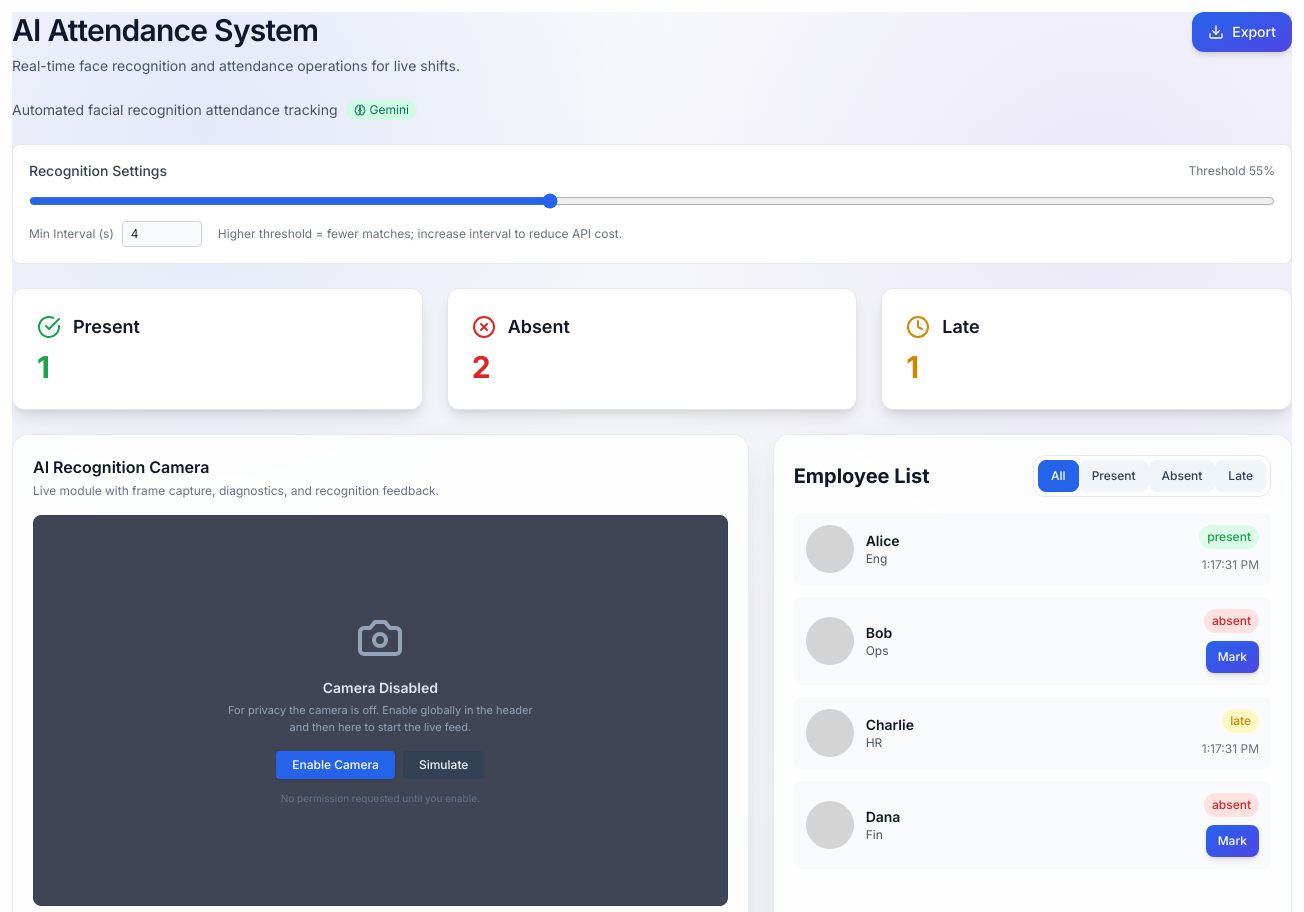
AttendanceSystem filters (backend mode) › renders stats and filters employee list correctly
Expected: the text with test id "stat-present-count" reads "1", left=37, top=349, right=50, bottom=385
Expected: the text with test id "stat-absent-count" reads "2", left=472, top=349, right=491, bottom=385
// Filter: Present
Step 1. Click the button "Present" → [1114, 476], box left=1079, top=460, right=1149, bottom=492
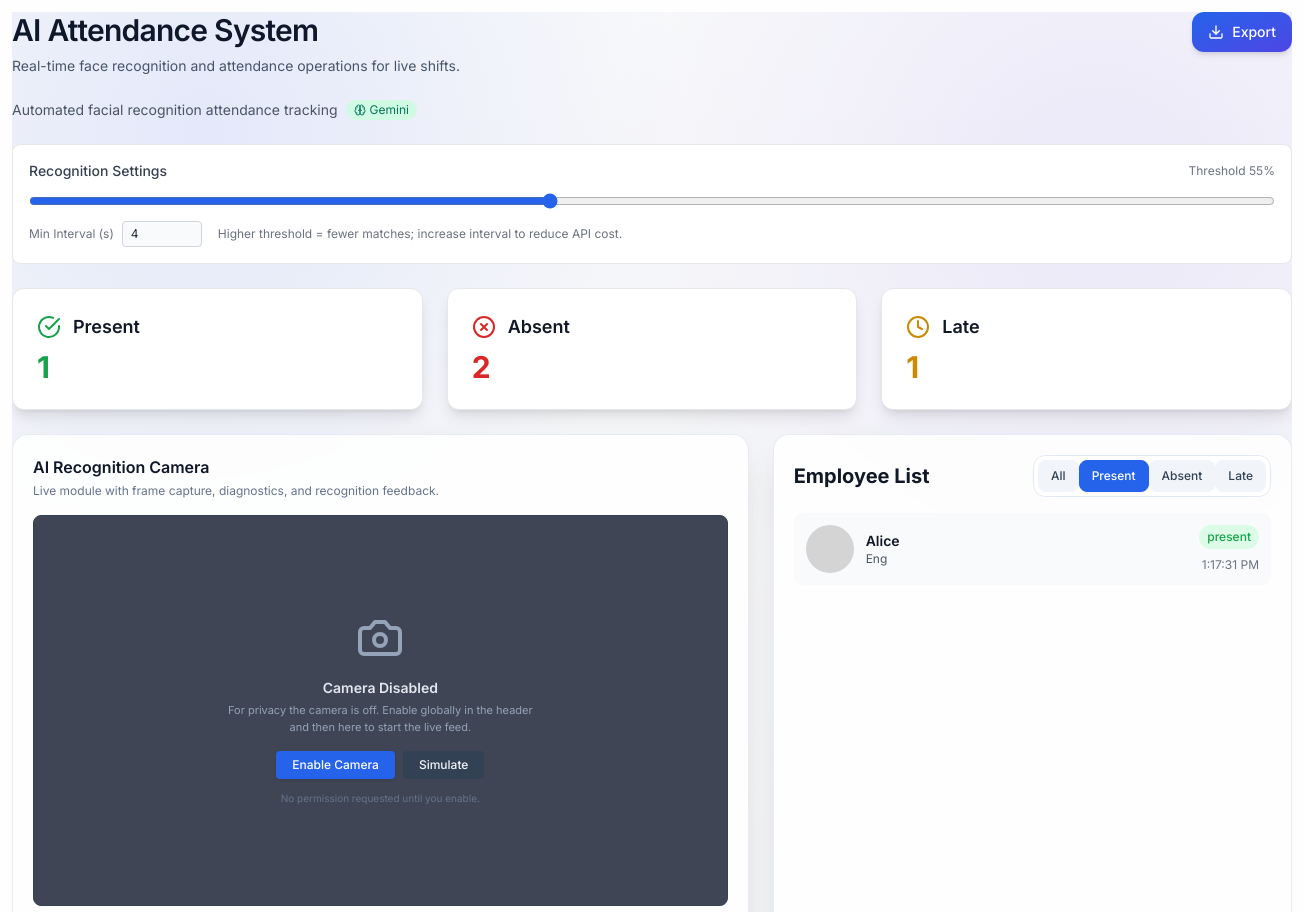
Expected: the heading "Alice" is shown, left=866, top=532, right=900, bottom=549
Expected: the heading "Bob" is gone
Expected: the heading "Charlie" is gone
// Filter: Late
Step 2. Click the button "Late" → [1241, 476], box left=1215, top=460, right=1266, bottom=492
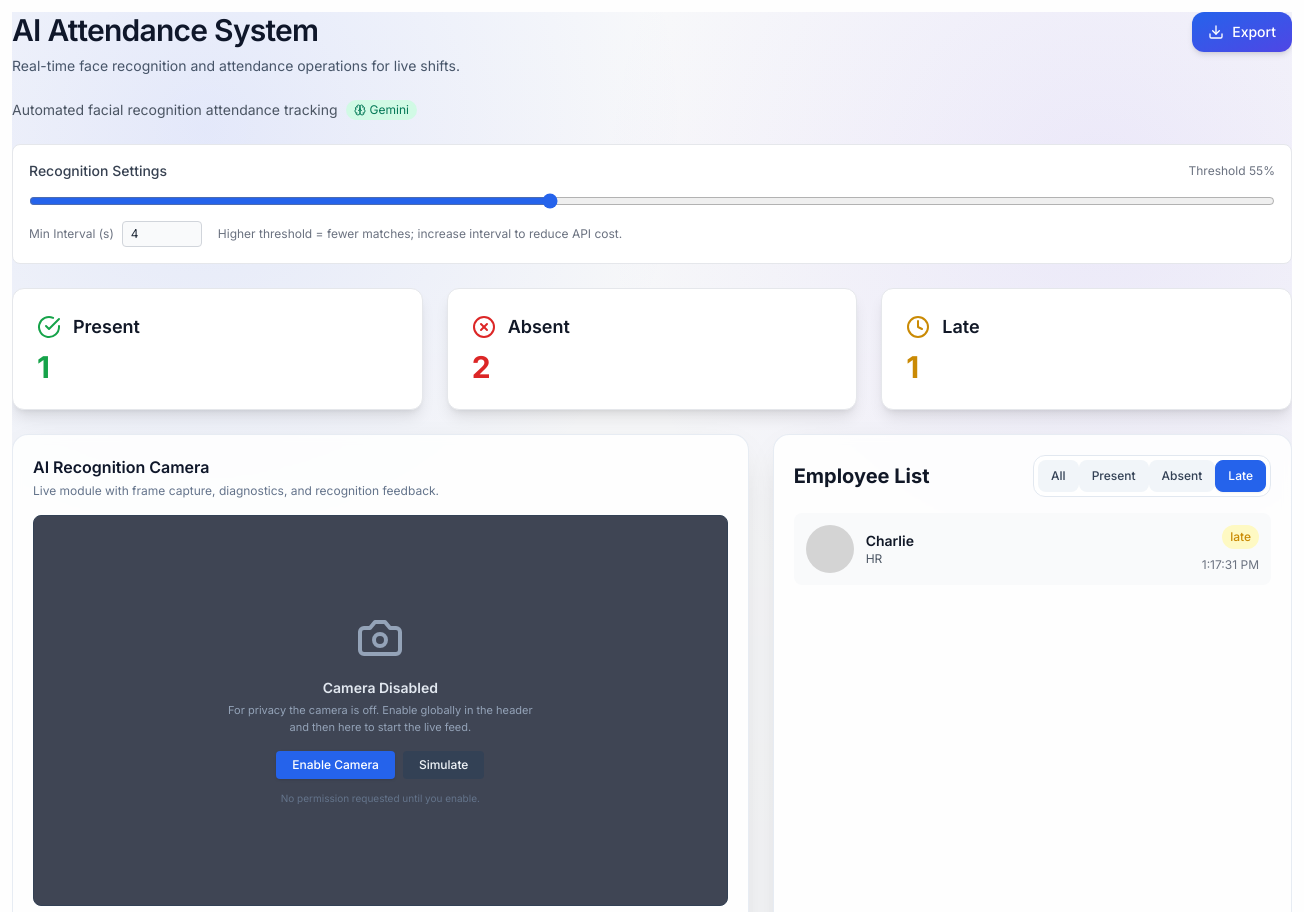
Expected: the heading "Charlie" is shown, left=866, top=532, right=914, bottom=549
Expected: the heading "Alice" is gone
// Filter: Absent
Step 3. Click the button "Absent" → [1182, 476], box left=1149, top=460, right=1215, bottom=492
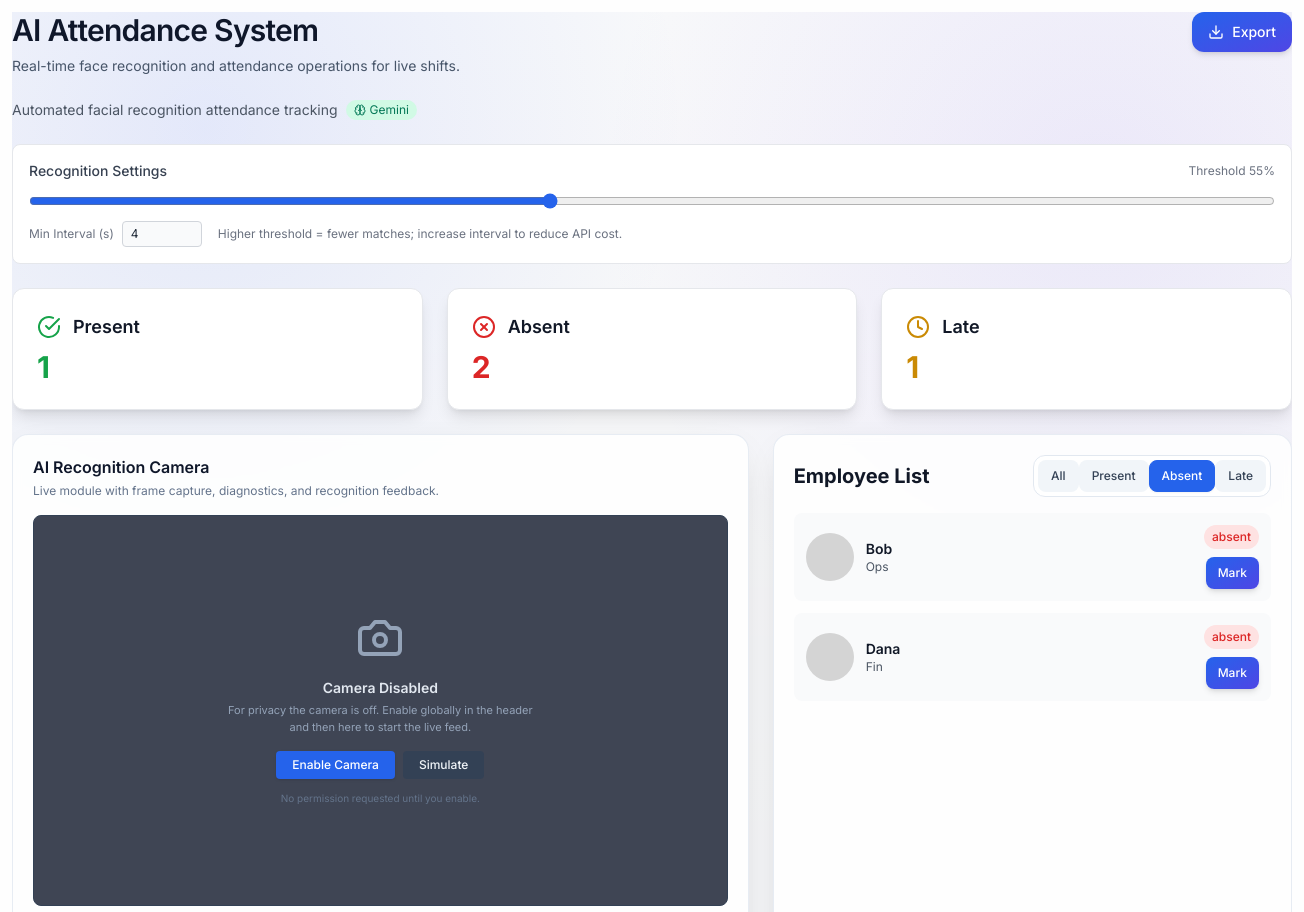
Expected: the heading "Bob" is shown, left=866, top=540, right=892, bottom=557
Expected: the heading "Dana" is shown, left=866, top=640, right=900, bottom=657
